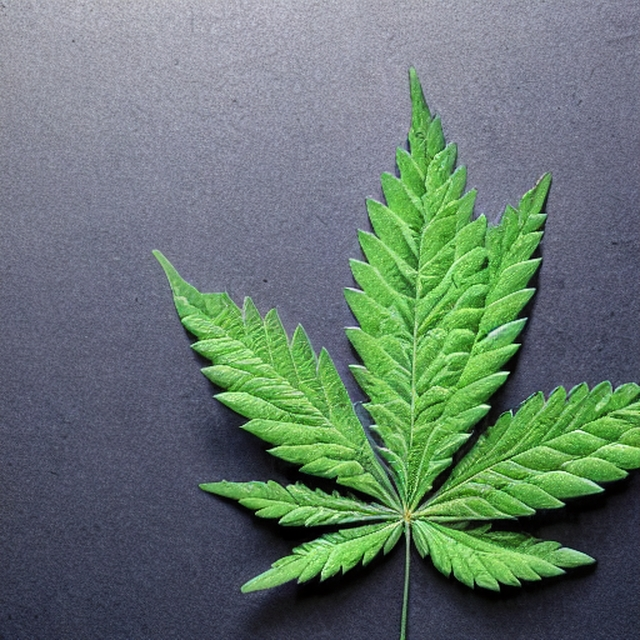Marijuana Leaf: (150, 64, 639, 639)
